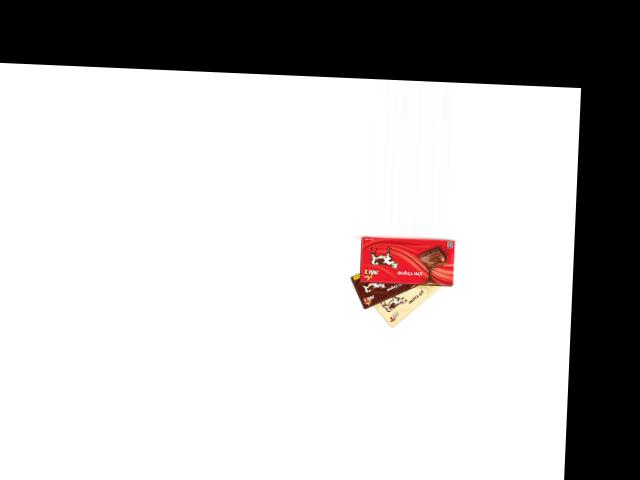chocolate: (361, 274, 450, 331)
